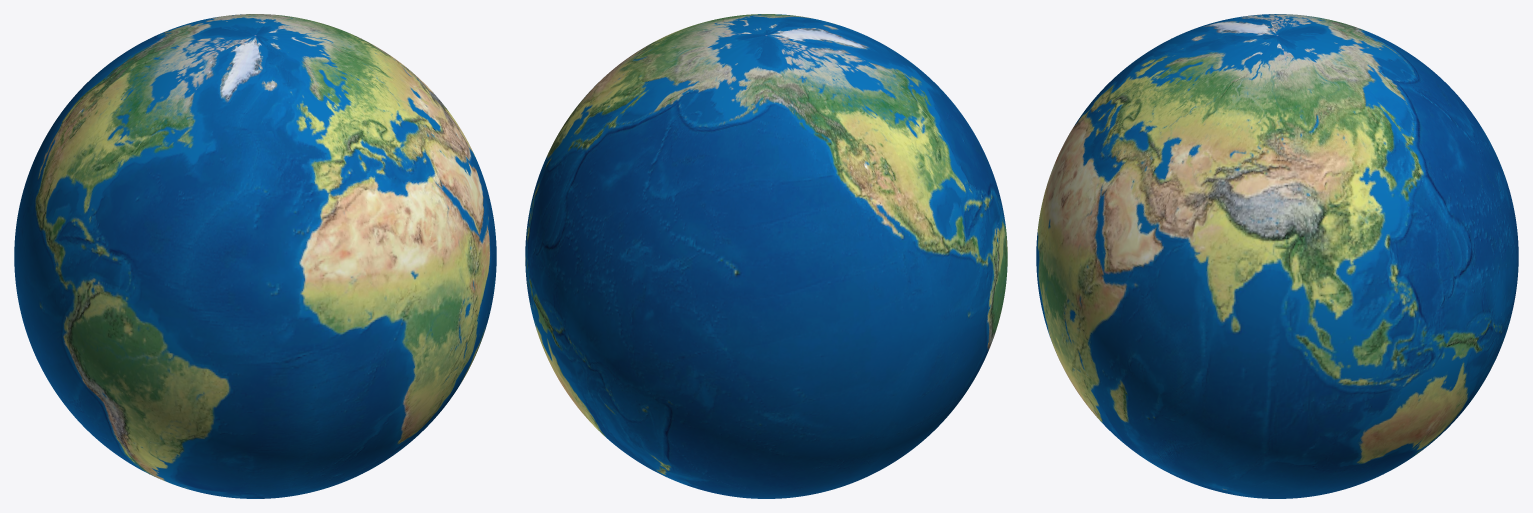
The model's file is World_Map_002.fbx.
3 renders of one model, left to right at view 1: azimuth 30°, elevation 25°; view 2: azimuth 150°, elevation 25°; view 3: azimuth 270°, elevation 25°, orthographic.
Visible parts, largest first — view 1: Sphere; view 2: Sphere; view 3: Sphere.
Boxes of the visible parts, box(x1,y1,x2,y2) form: Sphere: box(14, 14, 496, 498); Sphere: box(525, 14, 1007, 498); Sphere: box(1036, 14, 1518, 498).
Bounding box in the file's own units: 197 × 200 × 197.
Materials: 1 (1 with a texture image).
